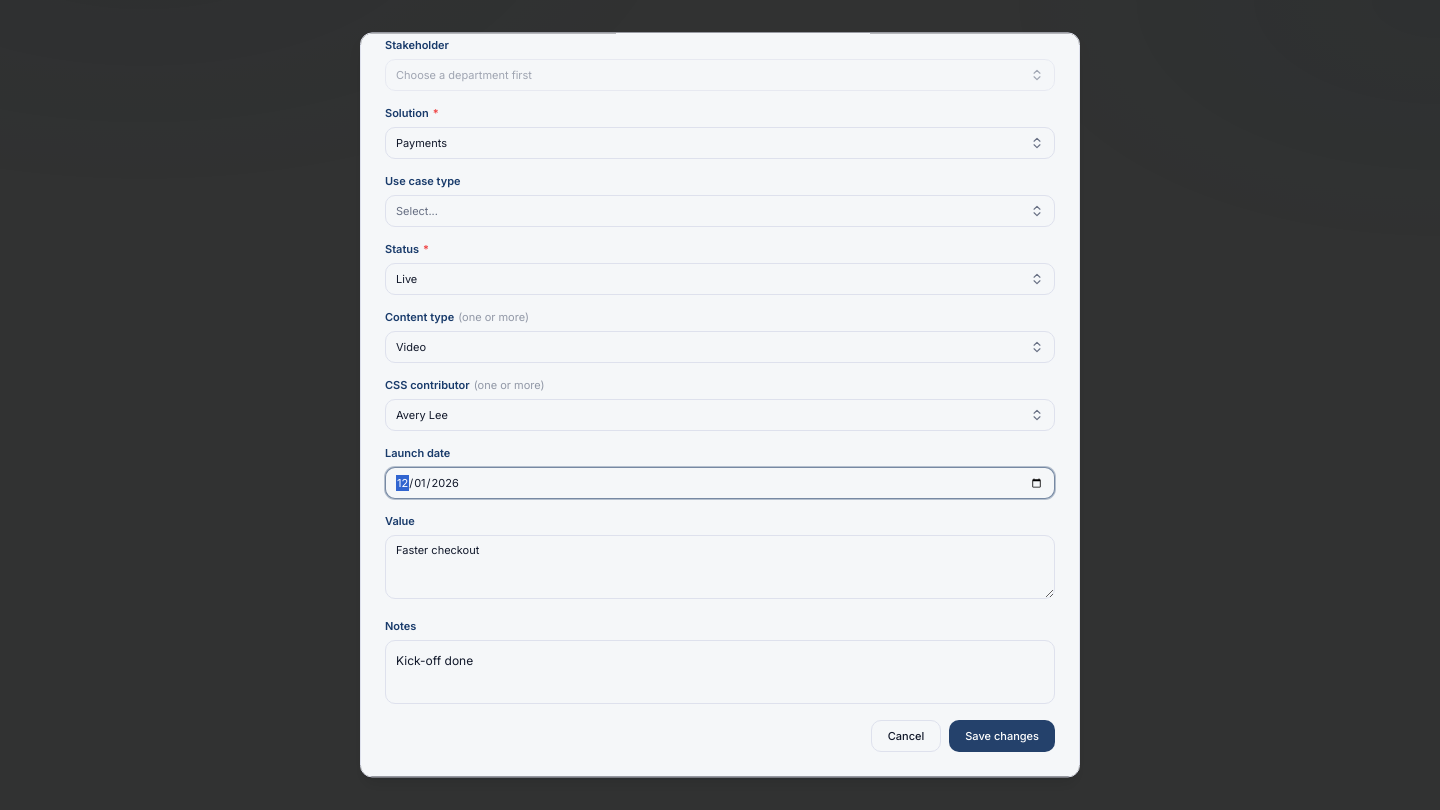
Scenario: UseCaseForm, edit › UCF-EDIT-002 Save changes posts the full use case with its id, toasts Use case updated, closes and refreshes the use cases
(page scrolled)
Check: the dialog "Edit use case" is shown, box x1=360 y1=32 x2=1080 y2=778
Check: the button "Payments" is shown, box x1=385 y1=127 x2=1055 y2=159
Step 1. Click the button "Save changes" → (1002, 736), box x1=949 y1=720 x2=1055 y2=752
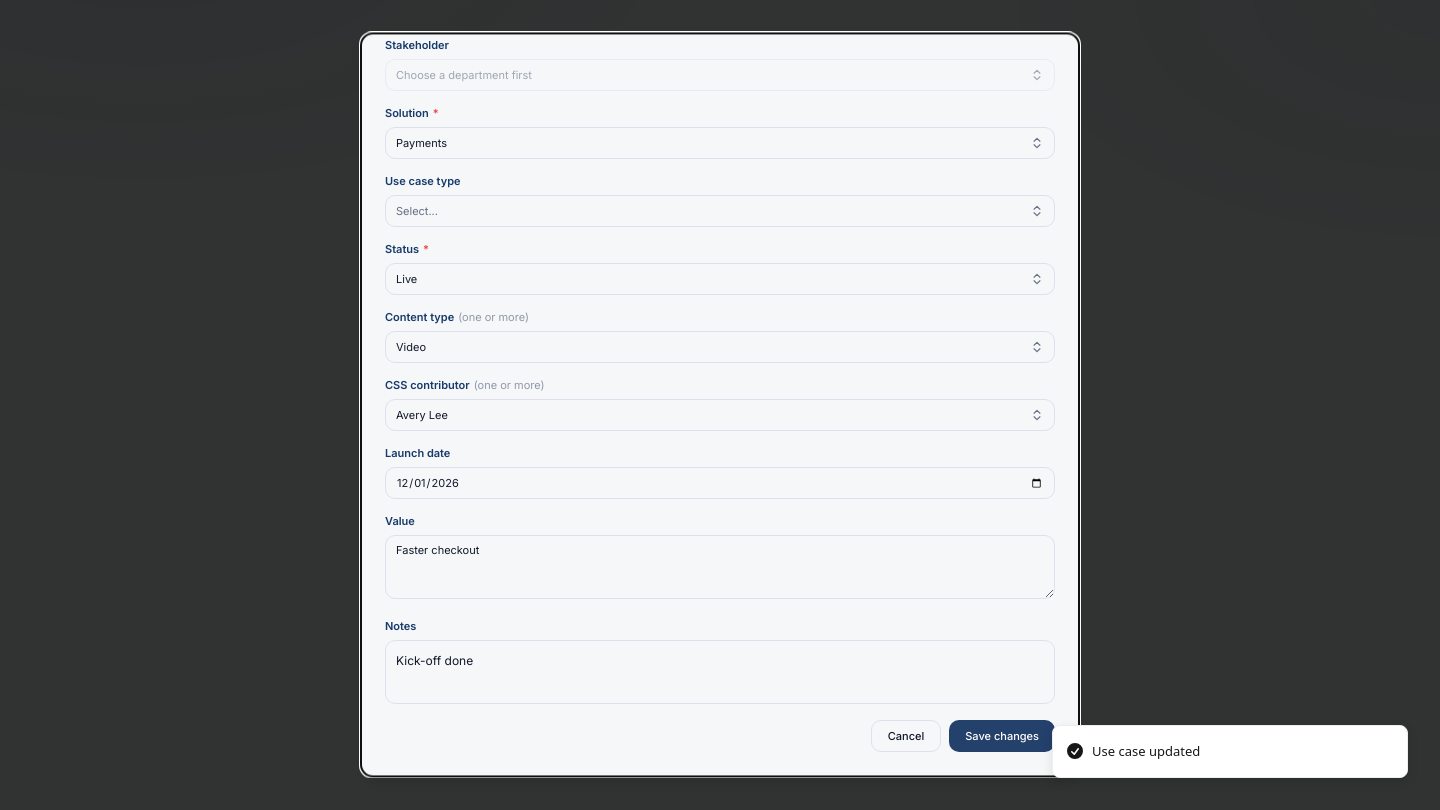
Check: the text "Use case updated" is shown, box x1=1092 y1=742 x2=1200 y2=761
